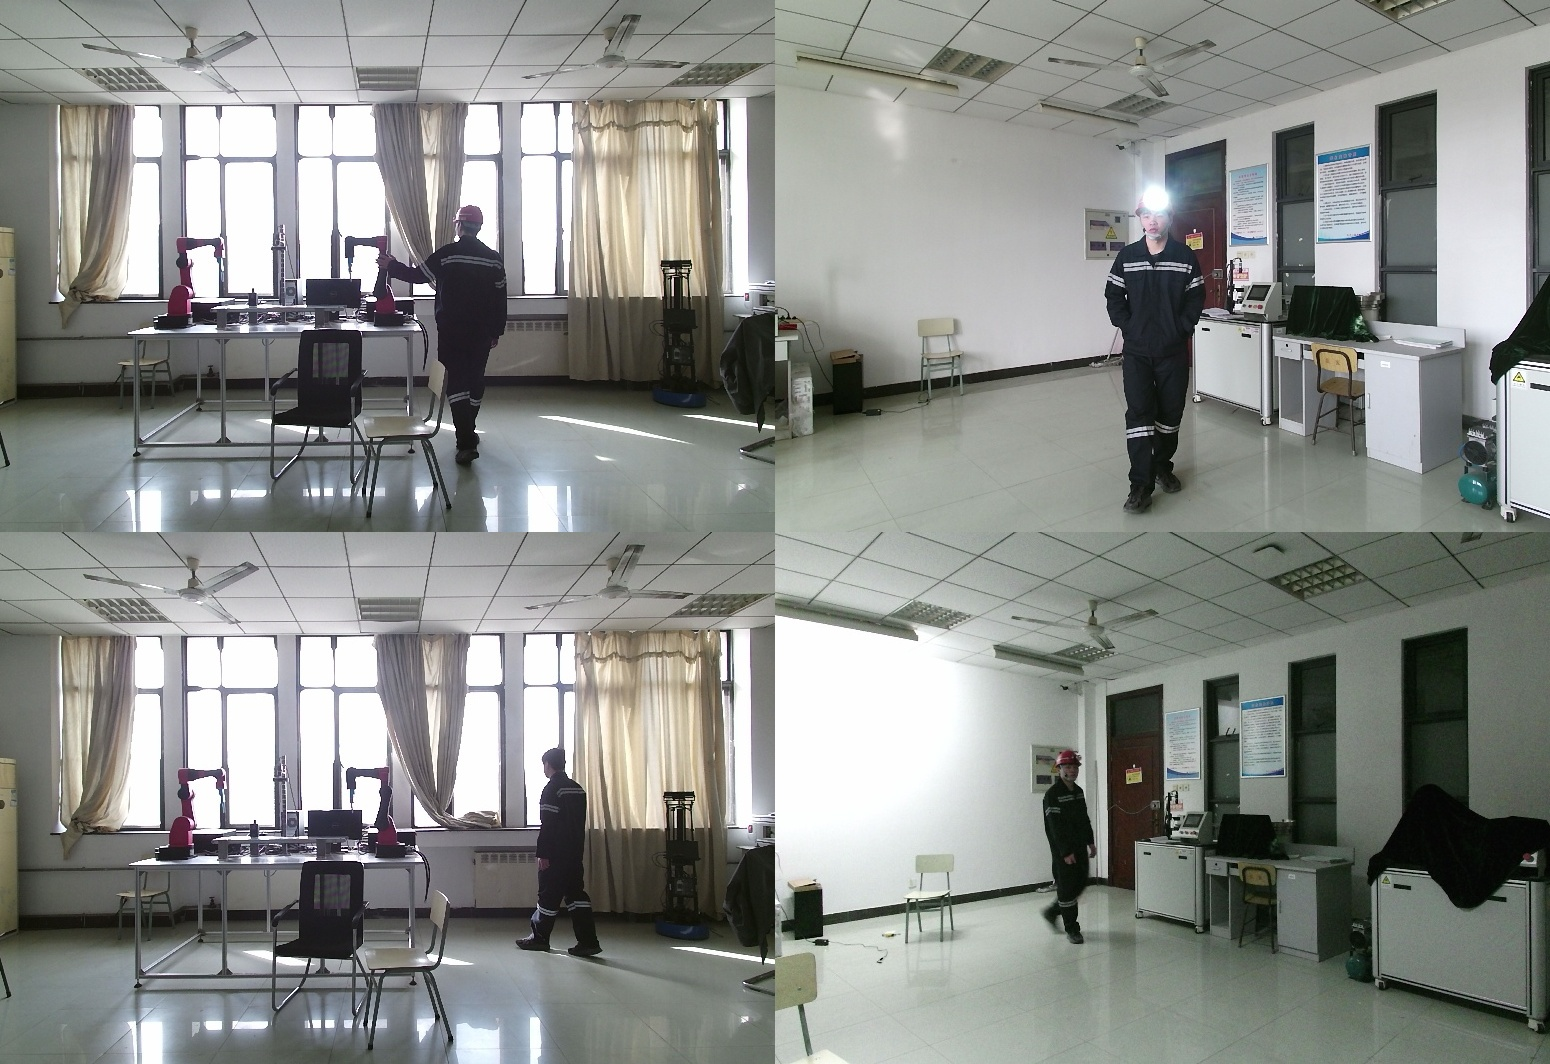person: (1097, 191, 1219, 513), (379, 204, 520, 471), (520, 749, 608, 965), (1032, 752, 1093, 951)
